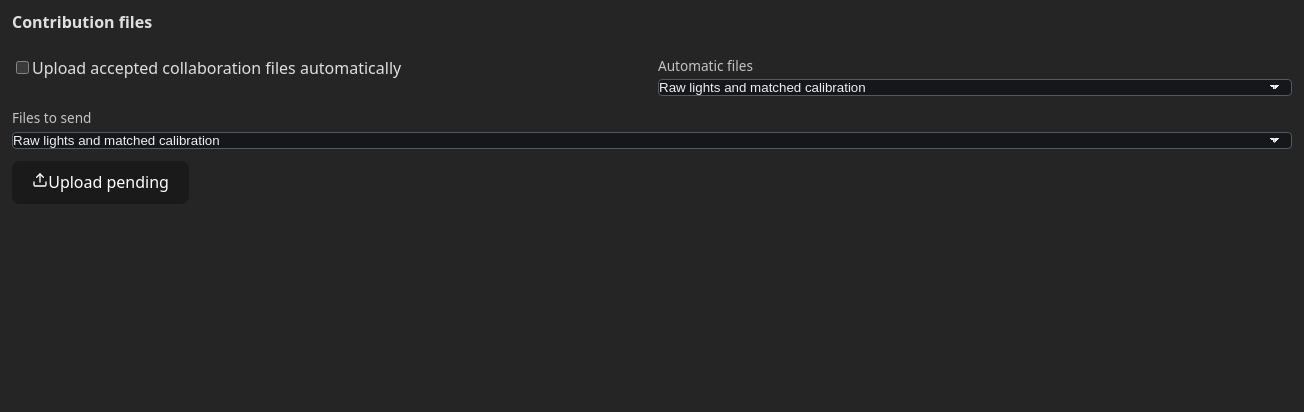
Test: Transfer automation policy › uploads pending files without a mandatory prepare or approval step
Click the button "Upload pending": (101, 182) [12,161,189,204]
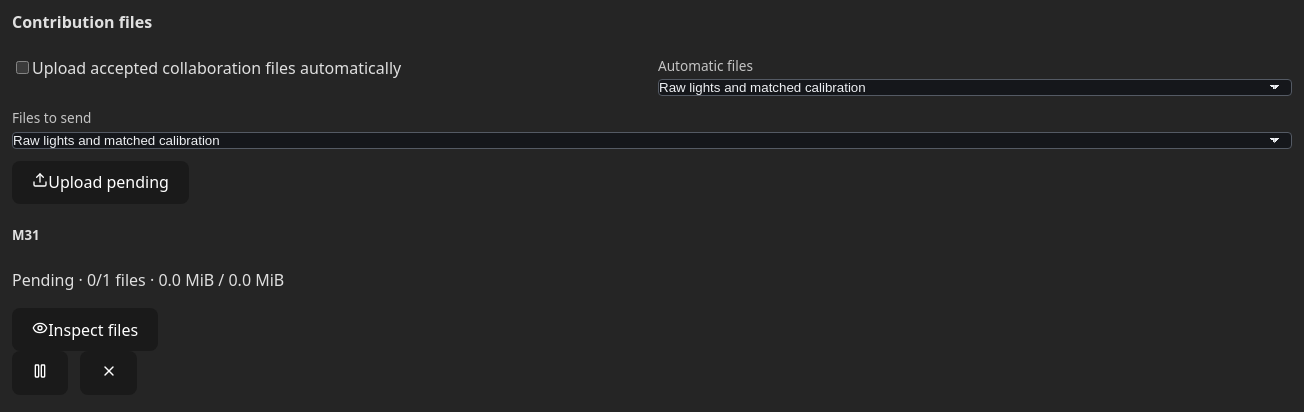
Check: the message shows "Pending", box [12,269,74,291]
Check: the button "Inspect files" is enabled, box [12,308,158,351]
